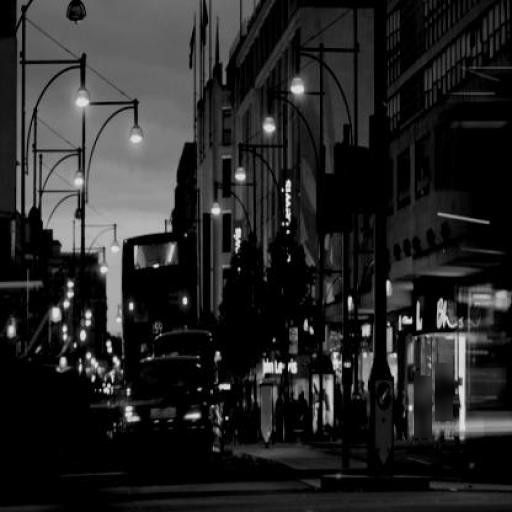acesa: (260, 115, 279, 137), (73, 89, 93, 109), (128, 126, 148, 144), (289, 77, 307, 95), (234, 167, 251, 183), (71, 171, 89, 186), (97, 260, 111, 277), (209, 202, 223, 216), (107, 242, 121, 255)
